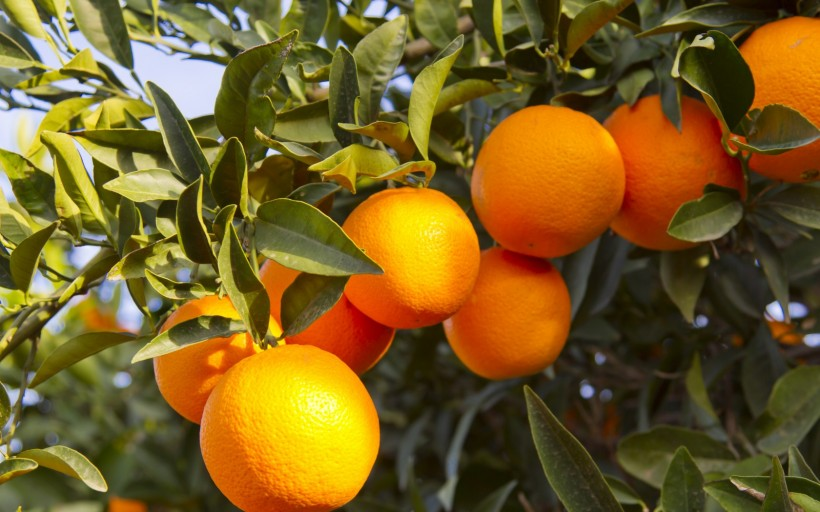orange: (199, 343, 382, 511), (600, 93, 748, 251), (472, 106, 625, 258), (339, 185, 480, 328), (253, 243, 394, 375), (440, 247, 570, 378), (155, 295, 284, 426), (731, 15, 820, 179)
